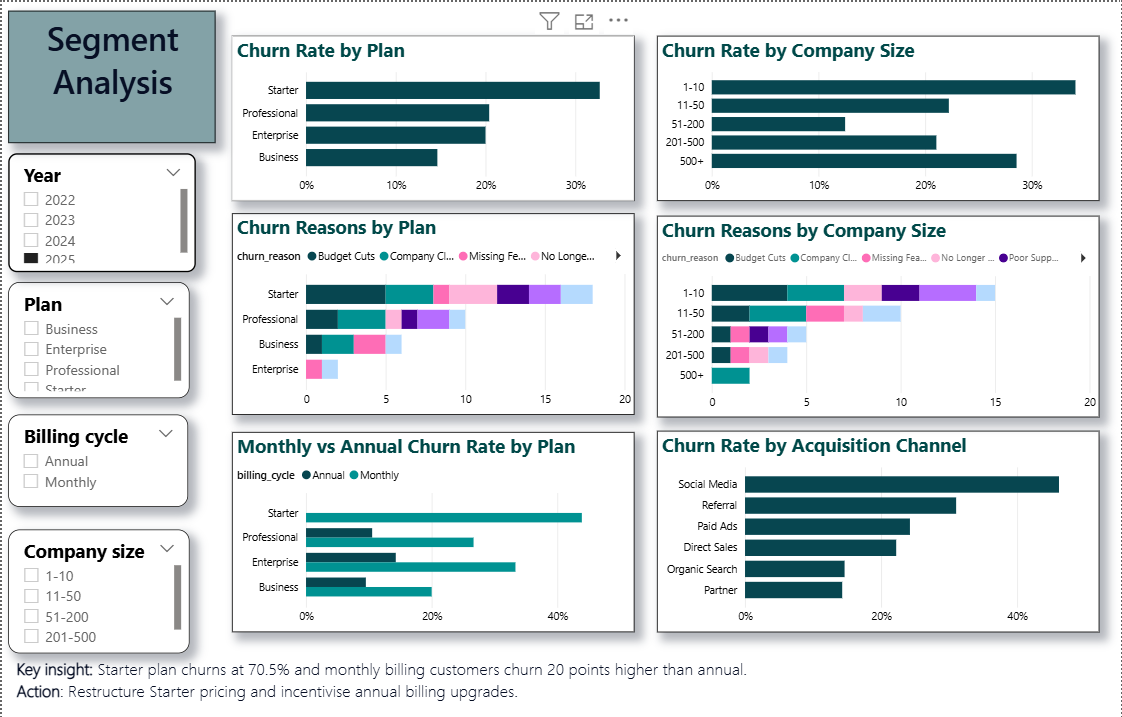

The page's visual inventory and layout, read from the dashboard file:
{"tool":"powerbi","page":{"name":"Segment Analysis","canvas":[1280,830],"ordinal":1},"visuals":[{"type":"slicer","fields":{"Values":["subscriptions.plan"]},"box":[7.1,320,207.1,132.9],"z":0},{"type":"slicer","fields":{"Values":["subscriptions.billing_cycle"]},"box":[7.1,471.4,205.7,105.7],"z":1000},{"type":"slicer","fields":{"Values":["subscriptions.company_size"]},"box":[7.1,602.9,207.1,141.4],"z":2000},{"type":"clusteredBarChart","title":"Churn Rate by Plan","fields":{"Y":["subscriptions.Churn Rate"],"Category":["subscriptions.plan"]},"box":[262.9,38.6,460,188.6],"z":3000},{"type":"clusteredBarChart","title":"Monthly vs Annual Churn Rate by Plan","fields":{"Y":["subscriptions.Churn Rate"],"Category":["subscriptions.plan"],"Series":["subscriptions.billing_cycle"]},"box":[262.9,491.4,460,228.6],"z":4000},{"type":"barChart","title":"Churn Rate by Company Size","fields":{"Y":["subscriptions.Churn Rate"],"Category":["subscriptions.company_size"]},"box":[748.6,38.6,505.7,188.6],"z":5000},{"type":"barChart","title":"Churn Rate by Acquisition Channel","fields":{"Y":["subscriptions.Churn Rate"],"Category":["subscriptions.acquisition_channel"]},"box":[748.6,490,505.7,230],"z":6000},{"type":"barChart","title":"Churn Reasons by Plan","fields":{"Category":["subscriptions.plan"],"Y":["CountNonNull(subscriptions.customer_id)"],"Series":["subscriptions.churn_reason"]},"box":[262.9,241.4,460,230],"z":7000},{"type":"barChart","title":"Churn Reasons by Company Size","fields":{"Category":["subscriptions.company_size"],"Y":["CountNonNull(subscriptions.customer_id)"],"Series":["subscriptions.churn_reason"]},"box":[748.6,244.3,505.7,230],"z":8000},{"type":"slicer","fields":{"Values":["DimDate.Year"]},"box":[7.1,172.9,214.3,135.7],"z":9000},{"type":"textbox","box":[11.4,744.3,962.9,75.7],"z":9001},{"type":"textbox","box":[7.1,10,237.1,151.4],"z":9002}]}

Visuals, with their boxes in screenshot pixels (x1, y1, x2, y2), scaled from the page's 1280x830 canvas onto the 1122x717 screenshot:
slicer - subscriptions.plan: bbox=(6, 276, 188, 391)
slicer - subscriptions.billing_cycle: bbox=(6, 407, 187, 499)
slicer - subscriptions.company_size: bbox=(6, 521, 188, 643)
"Churn Rate by Plan" clusteredBarChart: bbox=(230, 33, 634, 196)
"Monthly vs Annual Churn Rate by Plan" clusteredBarChart: bbox=(230, 424, 634, 622)
"Churn Rate by Company Size" barChart: bbox=(656, 33, 1099, 196)
"Churn Rate by Acquisition Channel" barChart: bbox=(656, 423, 1099, 622)
"Churn Reasons by Plan" barChart: bbox=(230, 209, 634, 407)
"Churn Reasons by Company Size" barChart: bbox=(656, 211, 1099, 410)
slicer - DimDate.Year: bbox=(6, 149, 194, 267)
textbox: bbox=(10, 643, 854, 708)
textbox: bbox=(6, 9, 214, 139)
